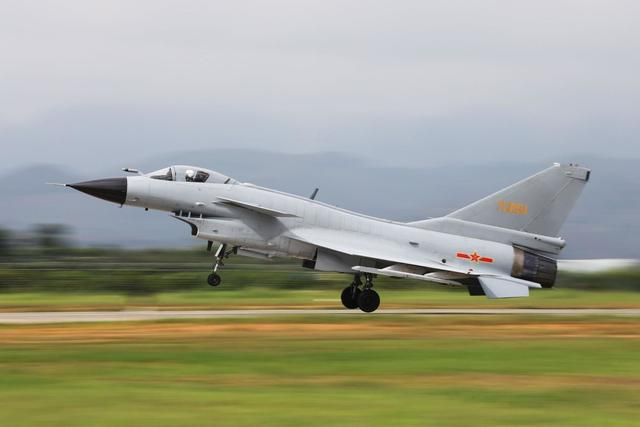airplane: (44, 156, 591, 307)
